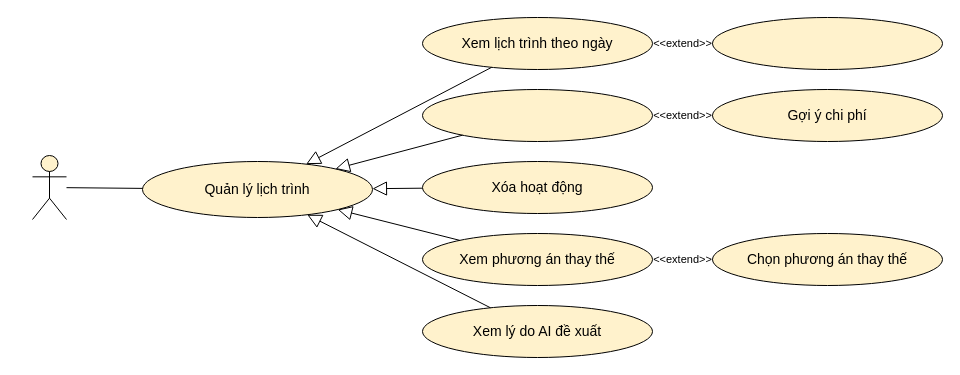
Some shapes in this 960 by 375 pixel diagram are drawn without their labels. The shapes that lost their labels are listed below. From the top down, each one's centre as x and y in pixels, then its label:
the point at 827,43: Xem bản đồ trong ngày
the point at 537,115: Thêm hoạt động
the point at 49,187: Người dùng
